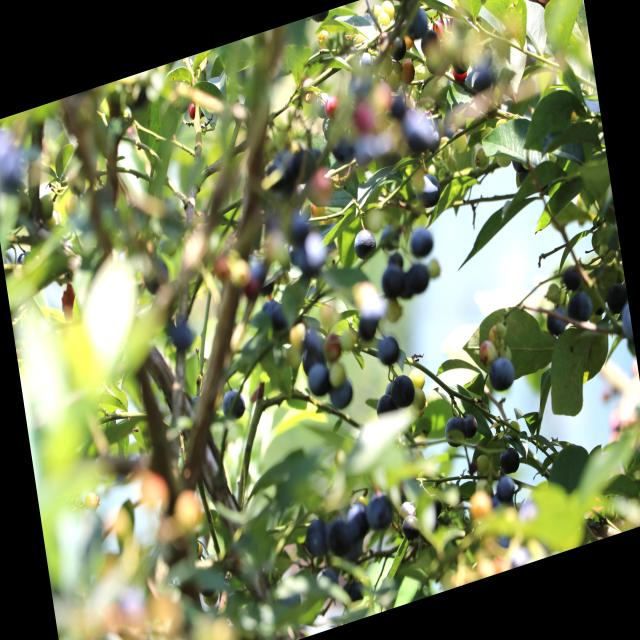blueberry: (485, 352, 516, 397), (364, 488, 394, 532), (350, 224, 380, 264), (388, 370, 417, 411), (564, 289, 594, 328), (220, 384, 247, 425), (345, 498, 372, 538), (407, 224, 435, 262), (306, 360, 332, 400), (326, 515, 352, 553), (442, 412, 468, 449), (328, 374, 354, 411), (544, 304, 570, 340), (405, 7, 432, 41), (375, 331, 401, 366), (380, 262, 404, 298), (497, 444, 522, 478), (418, 26, 442, 58), (374, 394, 397, 426), (407, 259, 429, 292), (494, 472, 517, 503), (469, 67, 492, 95), (388, 32, 408, 62), (450, 48, 471, 76), (401, 514, 421, 542), (460, 411, 479, 440), (397, 498, 417, 522), (429, 490, 443, 516)
blueberry-halfripe: (478, 338, 497, 367), (532, 0, 556, 8)
blueberry-unripe: (408, 384, 428, 413), (409, 364, 426, 392), (485, 323, 504, 348), (474, 452, 491, 478), (506, 418, 521, 442)
